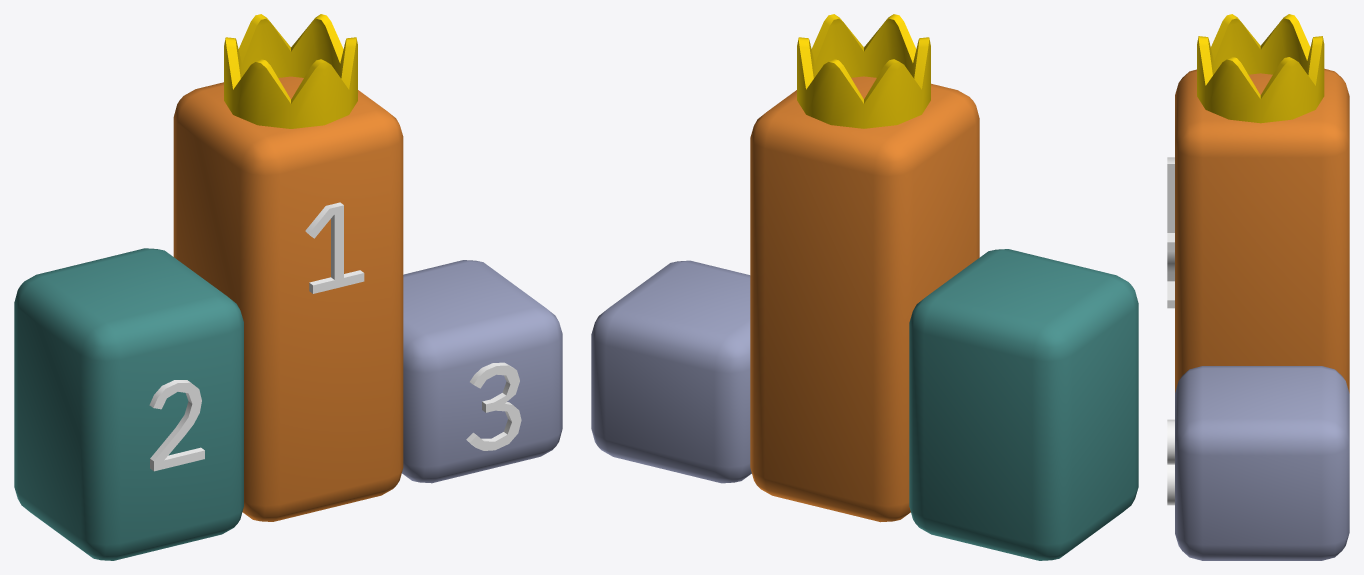
Rendered from Ranking.fbx.
3 views of the same model, side by side, from view 1: azimuth 30°, elevation 25°; view 2: azimuth 150°, elevation 25°; view 3: azimuth 270°, elevation 25° (orthographic). The views are drawn at different scales.
Parts seen in each view (by area): view 1: Ranking; view 2: Ranking; view 3: Ranking.
Part boxes in pixels (left/top/right/bottom): Ranking: left=14, top=14, right=562, bottom=560; Ranking: left=591, top=14, right=1138, bottom=560; Ranking: left=1167, top=14, right=1349, bottom=560.
Bounding box in the file's own units: 0.5816 × 0.518 × 0.2021.
